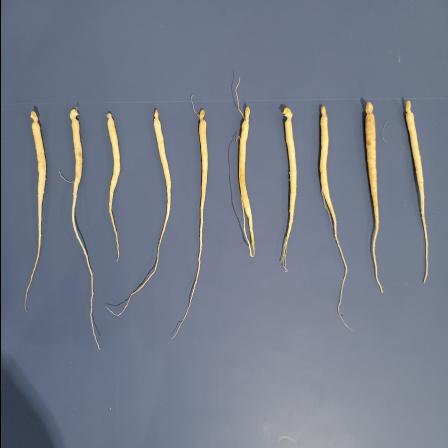Ginseng: (124, 106, 174, 318), (168, 107, 208, 346), (66, 105, 100, 353), (317, 104, 348, 327), (22, 106, 47, 314), (402, 94, 428, 286), (362, 98, 384, 302), (278, 105, 298, 275), (234, 105, 256, 258), (104, 110, 124, 264)
head: (68, 107, 80, 128), (29, 110, 39, 130), (240, 106, 250, 124), (281, 108, 292, 124), (364, 102, 374, 118), (197, 110, 206, 127), (404, 100, 412, 118), (318, 106, 328, 120), (152, 109, 160, 126), (105, 112, 113, 124)
